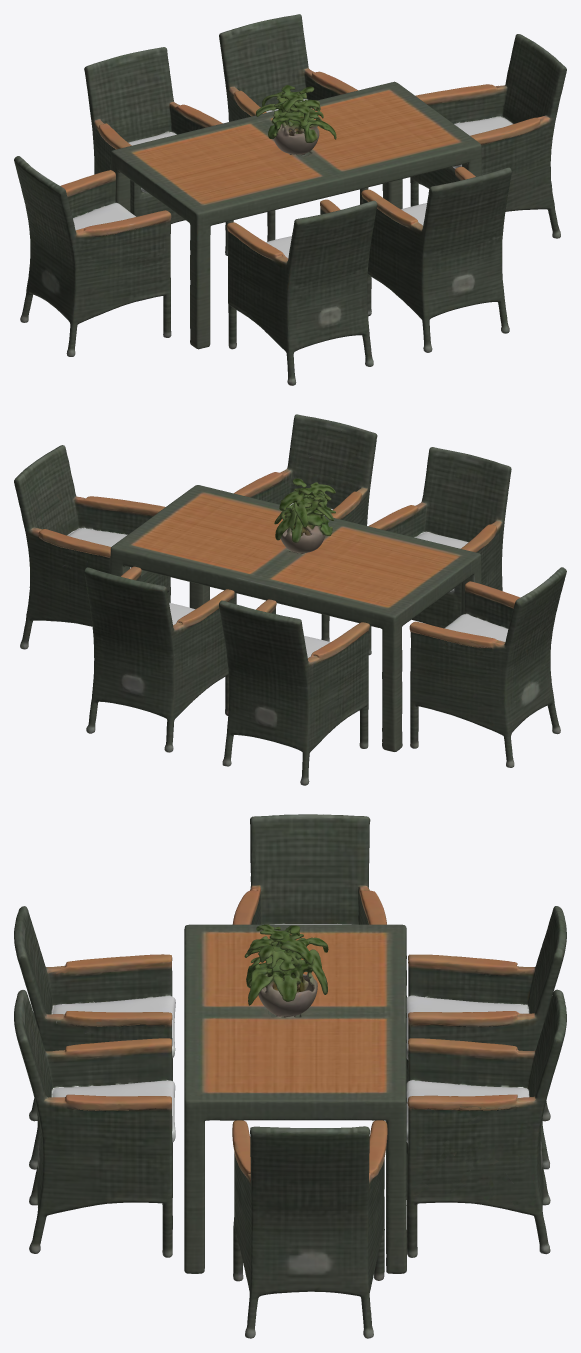
File: 6iSxtNvbVAhU99-NmL9xW.glb
3 views of the same model, one above another, from view 1: azimuth 30°, elevation 25°; view 2: azimuth 150°, elevation 25°; view 3: azimuth 270°, elevation 25° (orthographic). The views are drawn at different scales.
Parts seen in each view (by area): view 1: world; view 2: world; view 3: world.
Part boxes in pixels (x1,y1,x2,y2): world: (14,14,566,385); world: (14,414,566,785); world: (14,814,566,1338).
Bounding box in the file's own units: 0.999 × 0.3739 × 0.7325.
1 material, 1 textured.
